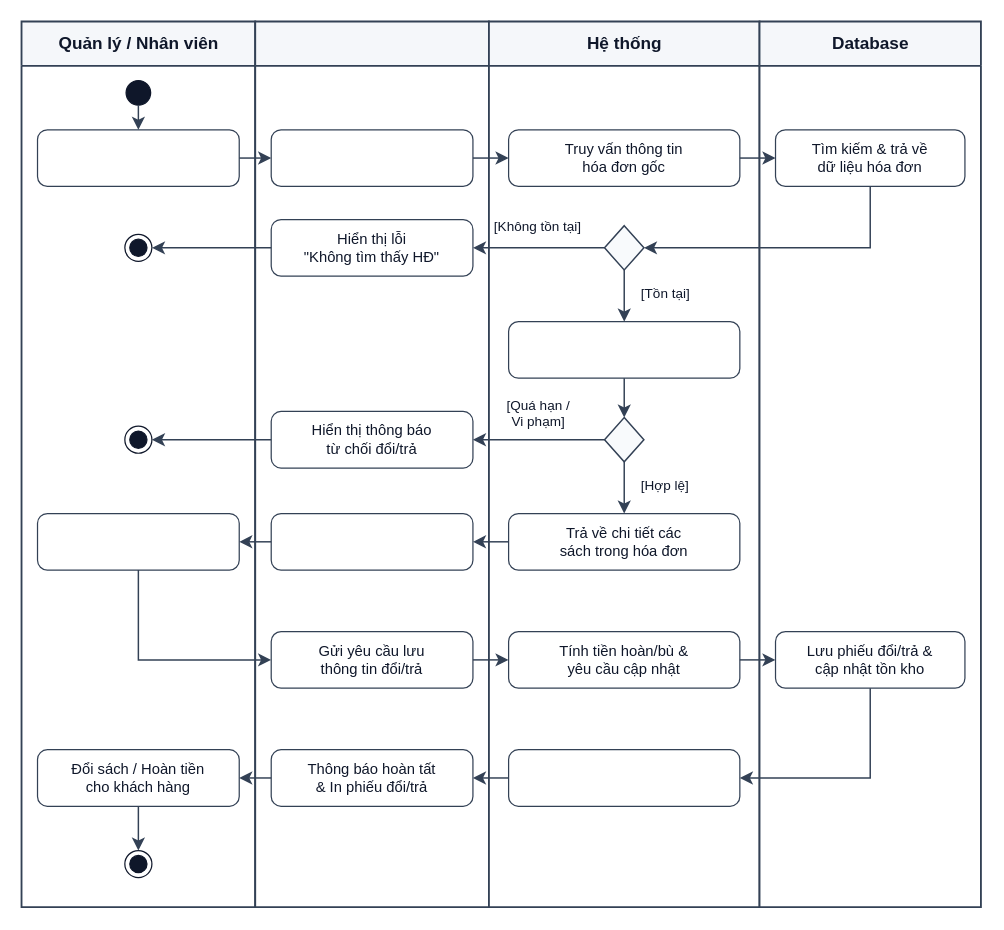
Image size: 1004x930. Some labels were removed from this diagram. The box of each missing label's shape, as (x1, y1, x2, y2) in pixels:
Chọn sách đổi/trả, nhập SL & xác nhận: (36, 512, 239, 570)
Giao diện: (254, 20, 489, 907)
Gửi yêu cầu tìm kiếm hóa đơn: (270, 129, 473, 186)
Hiển thị chi tiết hóa đơn: (270, 512, 473, 570)
Kiểm tra thời hạn & trạng thái đổi/trả HĐ: (507, 320, 740, 378)
Truy cập Đổi/Trả & nhập mã hóa đơn: (36, 129, 239, 186)
Xác nhận xử lý đổi/trả thành công: (507, 748, 740, 806)
